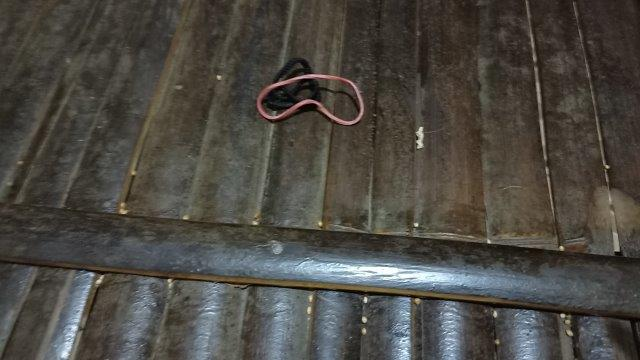karet: (257, 58, 365, 126)
